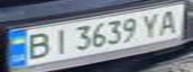3: (69, 22, 93, 52), (106, 17, 127, 46)
6: (90, 20, 109, 48)
9: (118, 15, 142, 43)
A: (154, 7, 187, 36)
B: (18, 29, 54, 61)
I: (45, 26, 72, 56)
Y: (136, 10, 166, 38)
